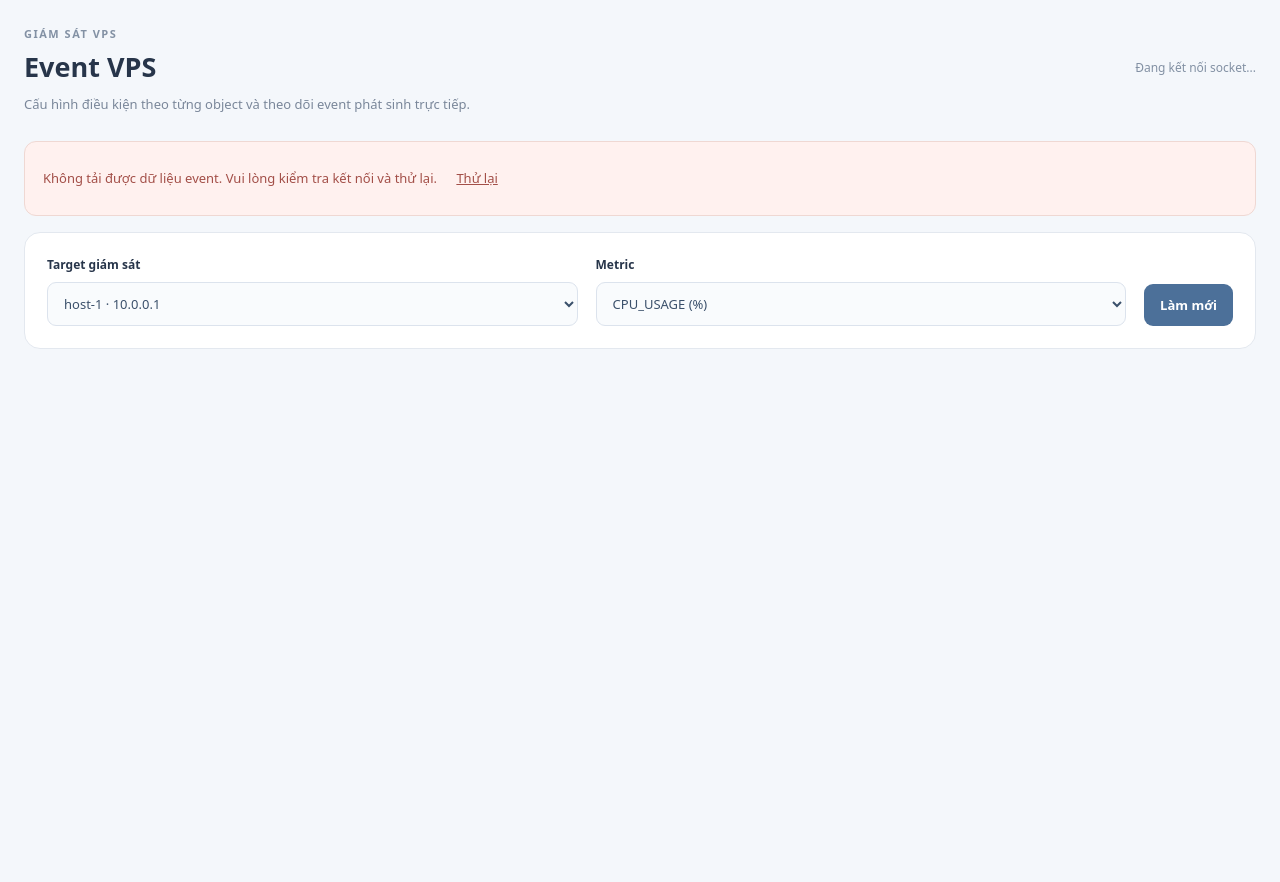
Test: offers retry after a snapshot error
The width and height of the screenshot is (1280, 882).
Expected: the message "Không tải được dữ liệu event. Vui lòng kiểm tra kết nối và thử lại. Thử lại" is shown, [24,142,1256,216]
Step 1. Click the button "Thử lại" → click(477, 179), box [440,158,514,200]
(page scrolled)
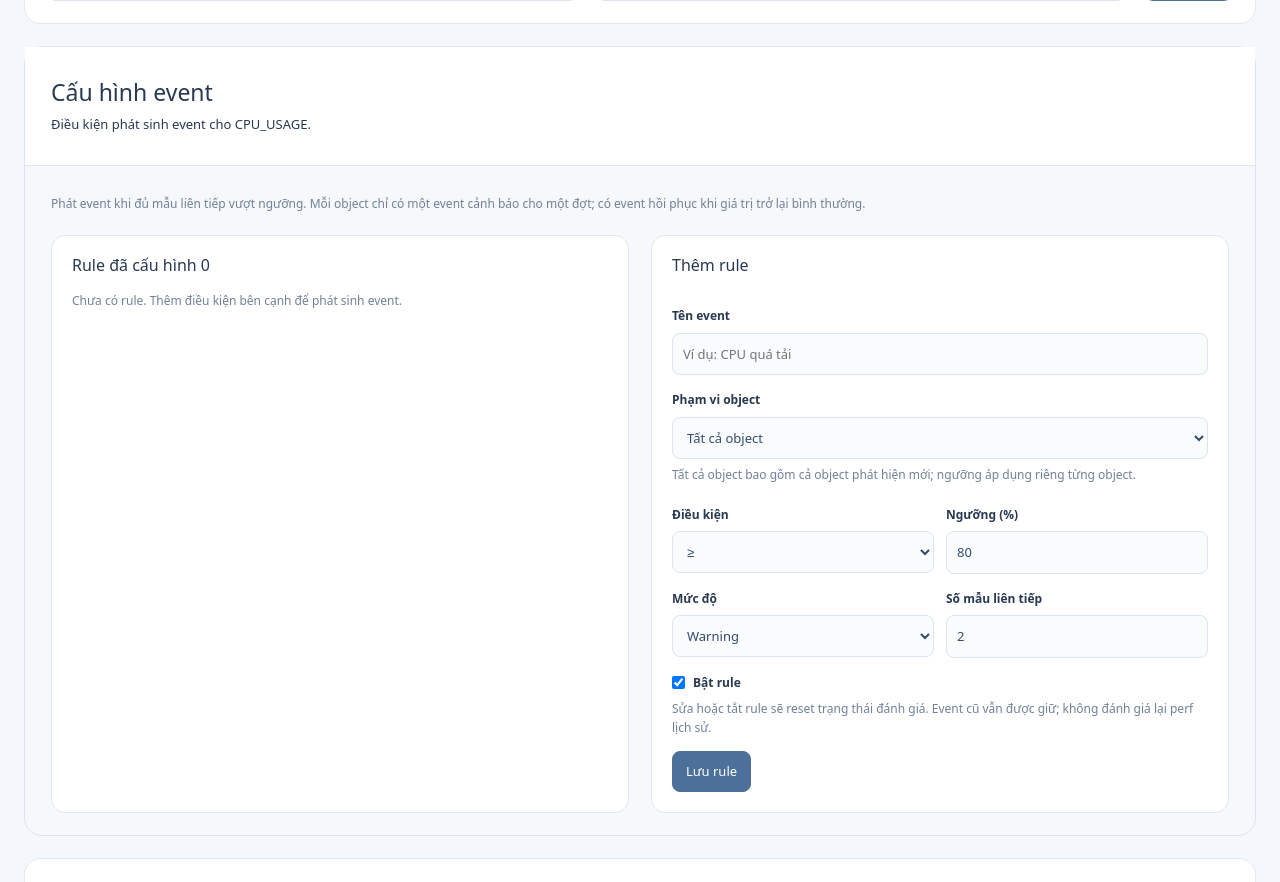
Now the element with class "event-rules" is shown
